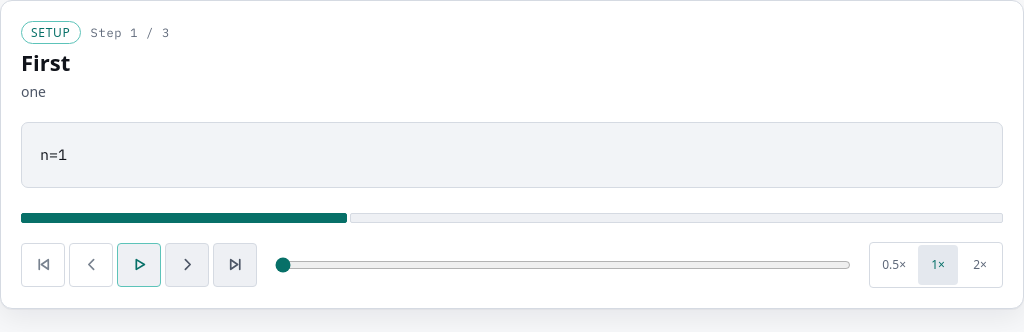
StepPlayer › advances with the Next control
Click the button titled "Next (→)": x=187, y=265 [165, 243, 209, 287]
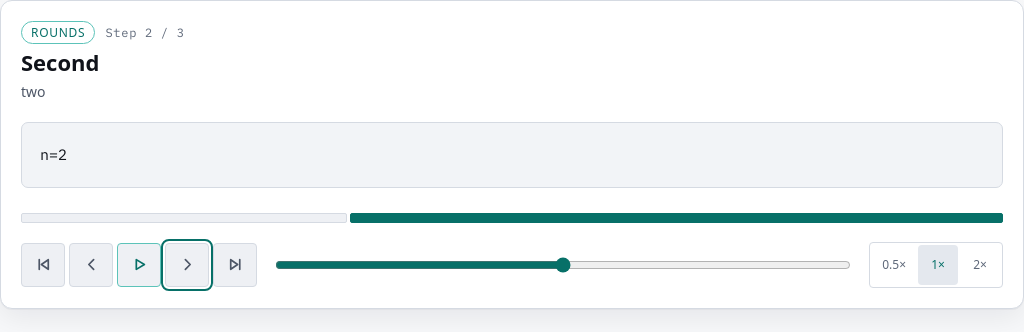
Expected: the text with test id "viz" reads "n=2", [40, 145, 67, 164]
